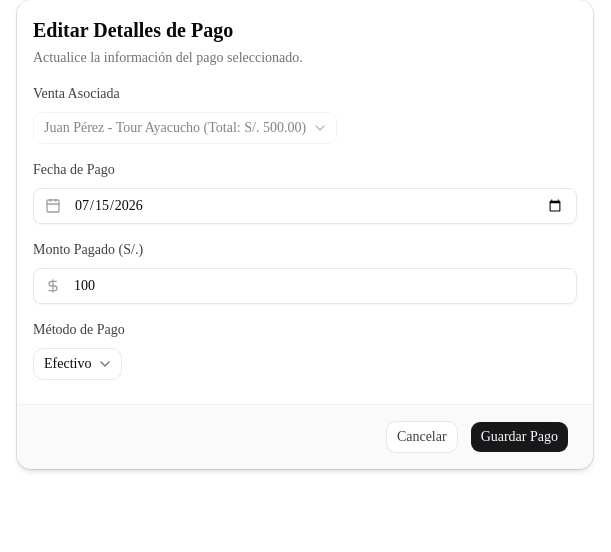
PaymentForm › muestra error si el submit falla
Click the button "Guardar Pago" at (519, 437), box top-left (470, 421), bottom-right (569, 453)
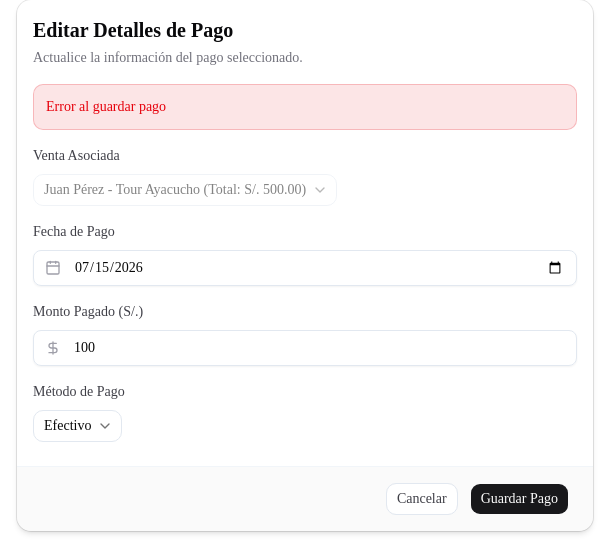
Check: the text "Error al guardar pago" is shown, box top-left (33, 84), bottom-right (577, 130)
